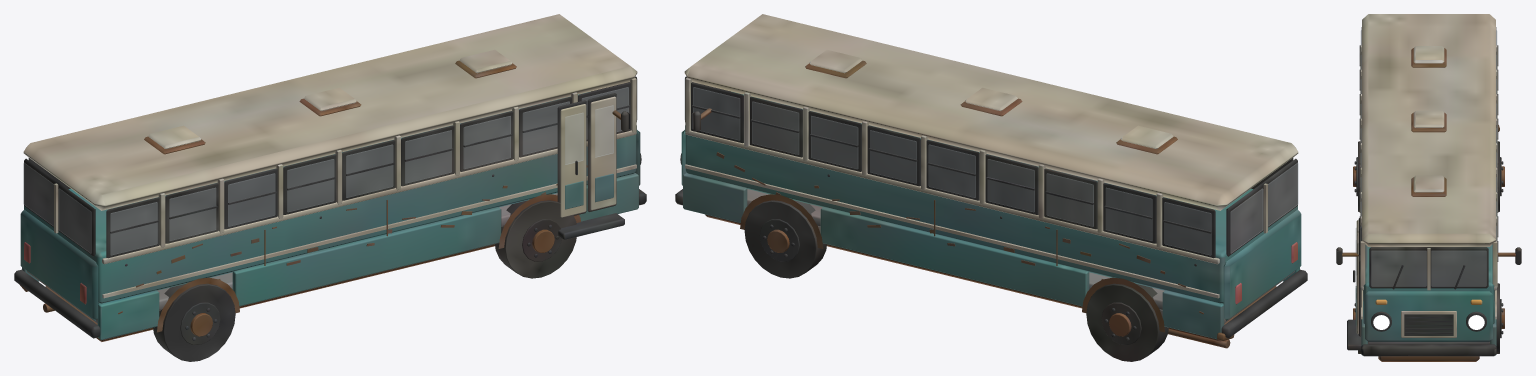
File: R09_old_city_bus.glb
3 views of the same model, side by side, from view 1: azimuth 30°, elevation 25°; view 2: azimuth 150°, elevation 25°; view 3: azimuth 270°, elevation 25° (orthographic). The views are drawn at different scales.
Parts seen in each view (by area): view 1: Chassis; view 2: Chassis; view 3: Chassis.
Boxes of the visible parts, x1,y1,x2,y2 form: Chassis: (14,14,646,361); Chassis: (675,14,1307,361); Chassis: (1336,14,1521,361).
Size of the model in its own units: 10 by 3.29 by 3.4.
12 materials, 10 textured.
